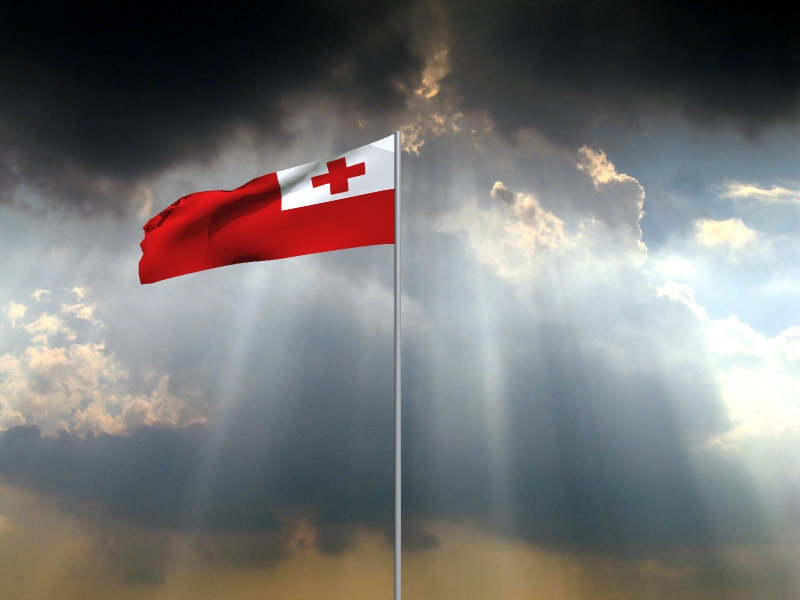to: (138, 134, 394, 286)
